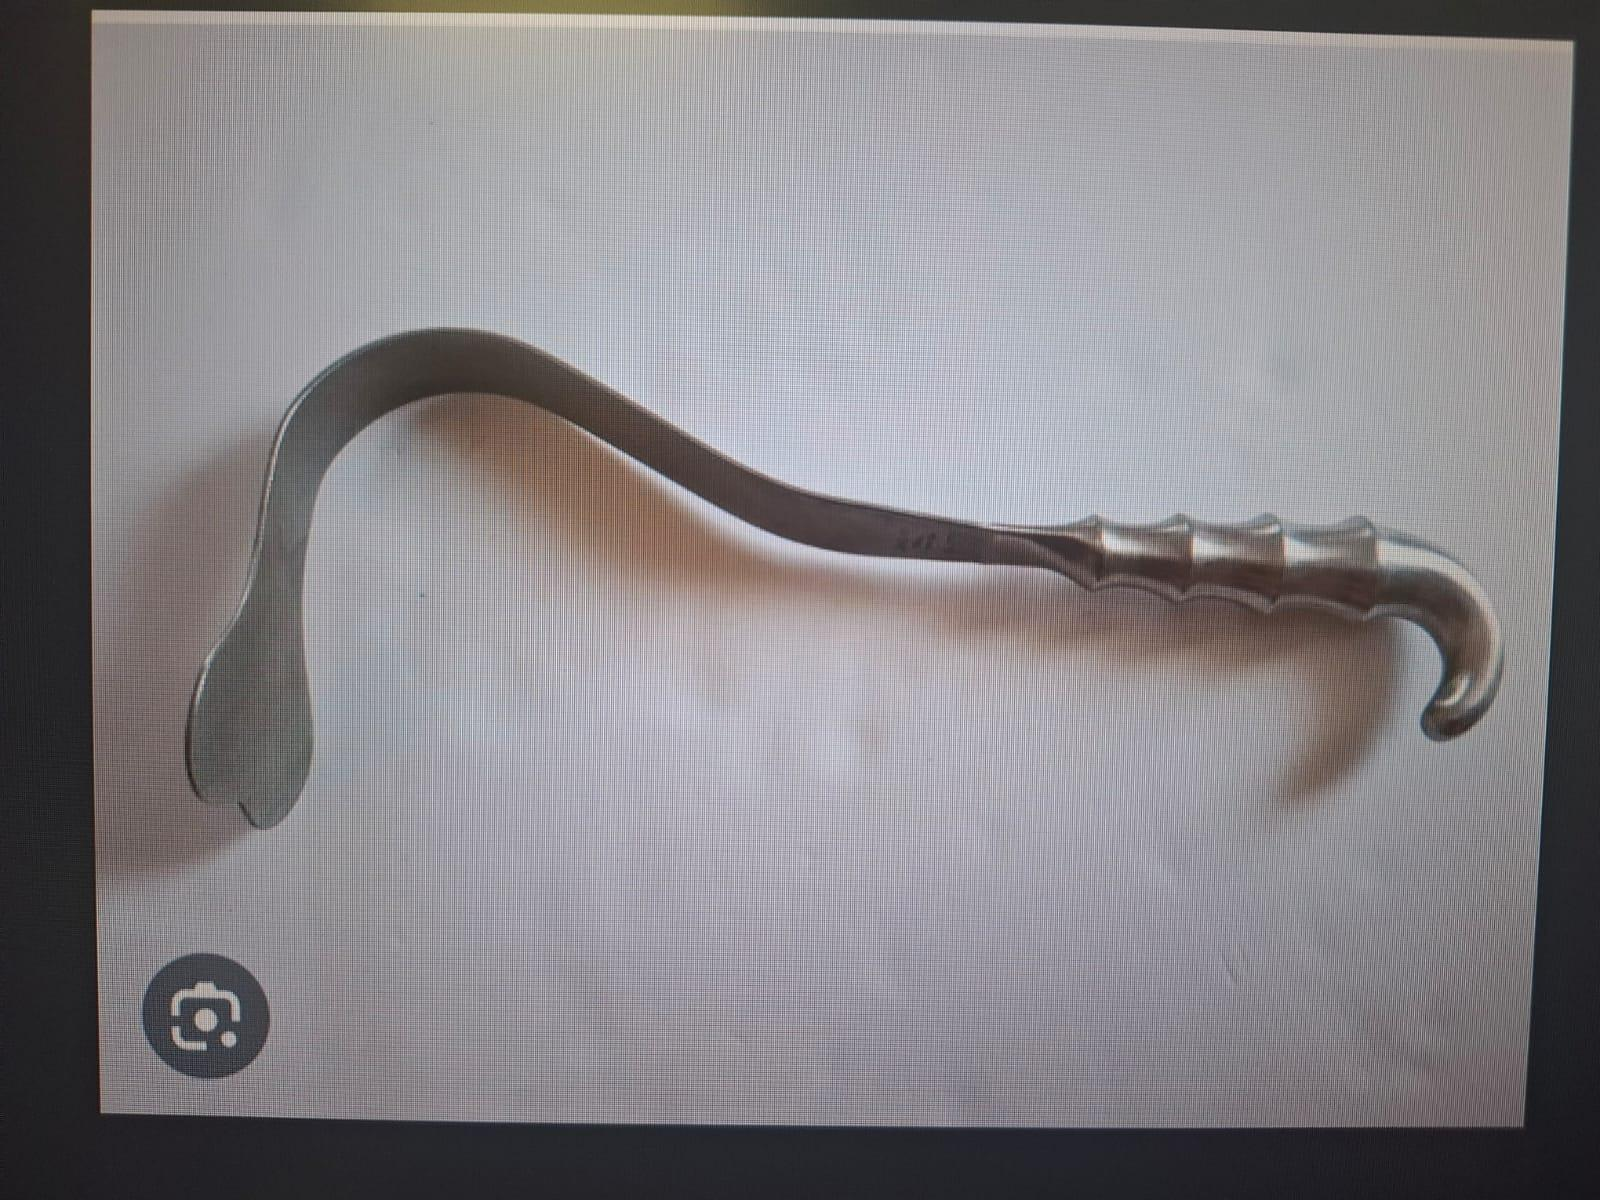Harrington Retractor: (164, 304, 1508, 829)
